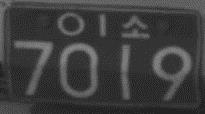0: (59, 42, 99, 98), (56, 11, 85, 37)
1: (109, 44, 143, 100), (91, 13, 114, 37)
7: (13, 39, 53, 96)
9: (151, 44, 192, 101)
소: (120, 14, 149, 38)
